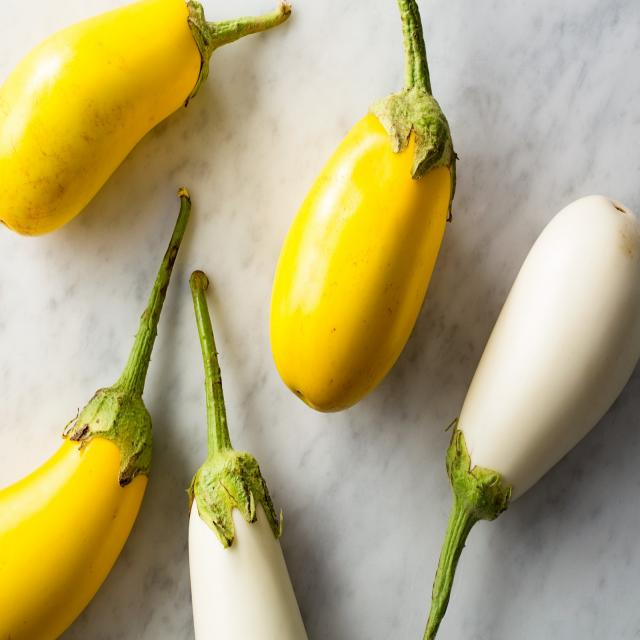eggplant: (443, 190, 640, 549), (264, 89, 454, 414), (0, 0, 212, 239), (0, 372, 159, 640), (183, 434, 309, 640)
